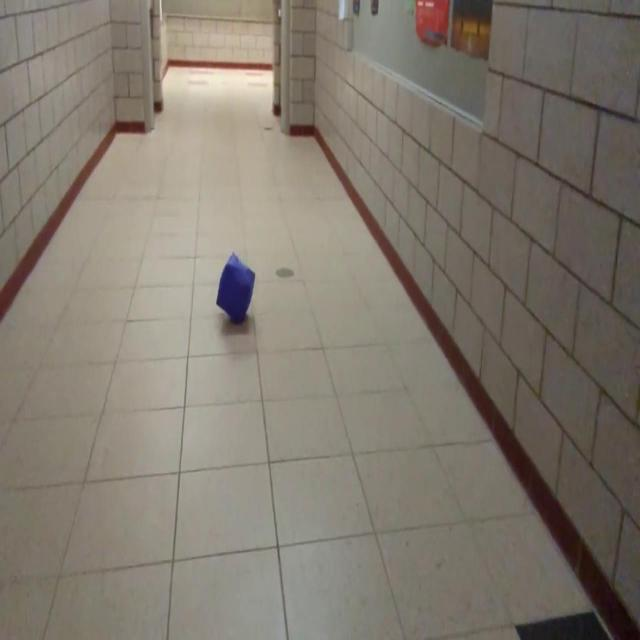frc_cube: (214, 253, 255, 324)
